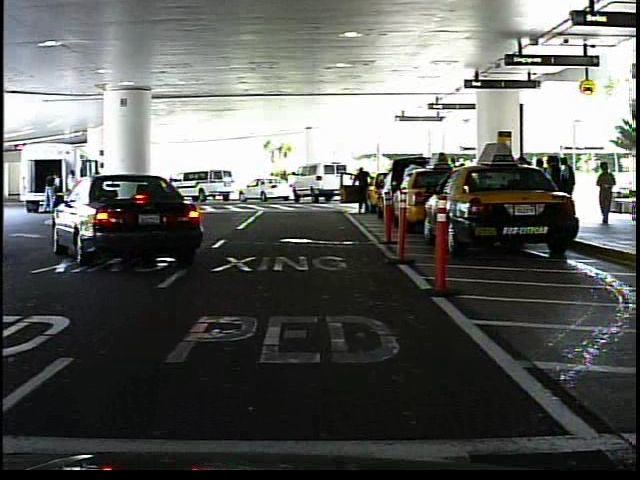person: (595, 158, 619, 225), (351, 163, 375, 219), (279, 168, 290, 197), (267, 171, 278, 178)
